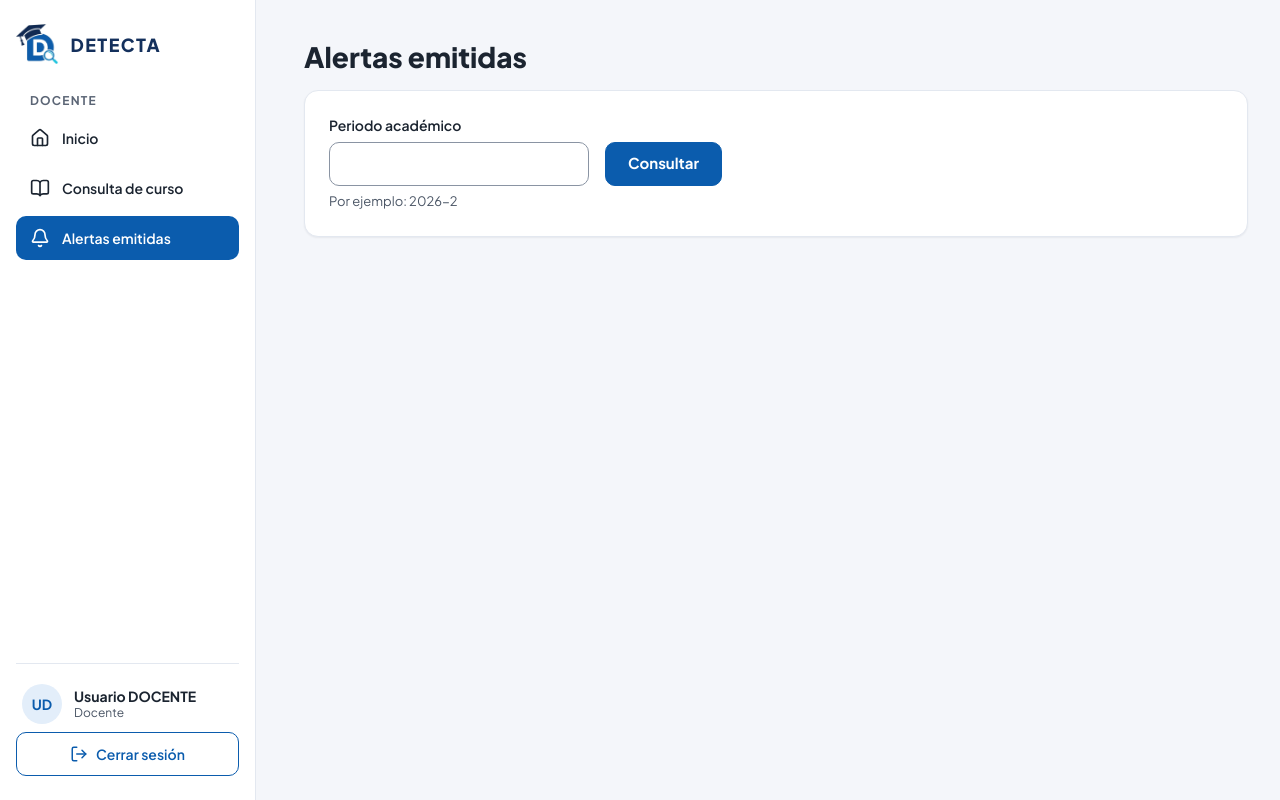
Test: Alertas emitidas (CUD01 2.c) › lista con fecha, estudiante, curso, nivel, justificación y estado «Pendiente» o «Atendida»; sin contenido de solicitudes
The width and height of the screenshot is (1280, 800).
Type "2026-2" into the field labelled "Periodo académico" at [459, 164], box [329,142,589,186]
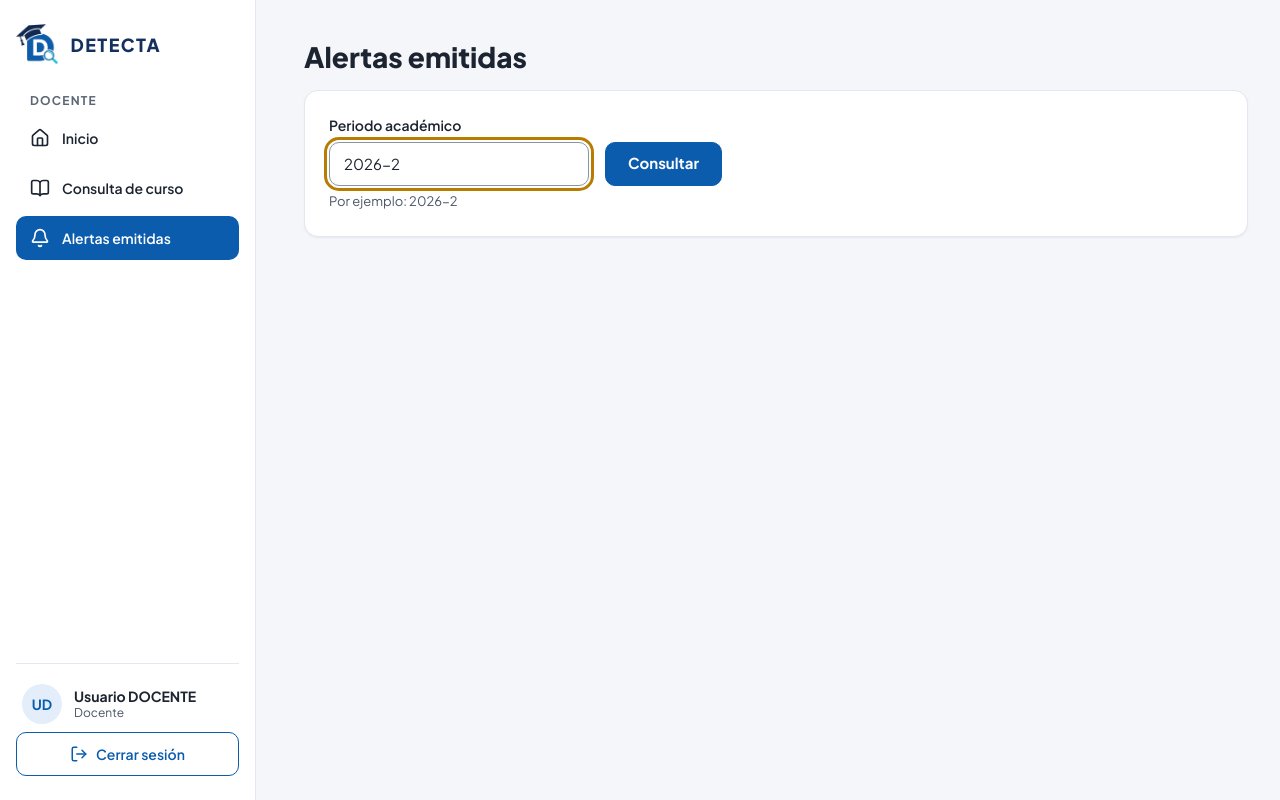
Click the button "Consultar" at [664, 164], box [605,142,722,186]
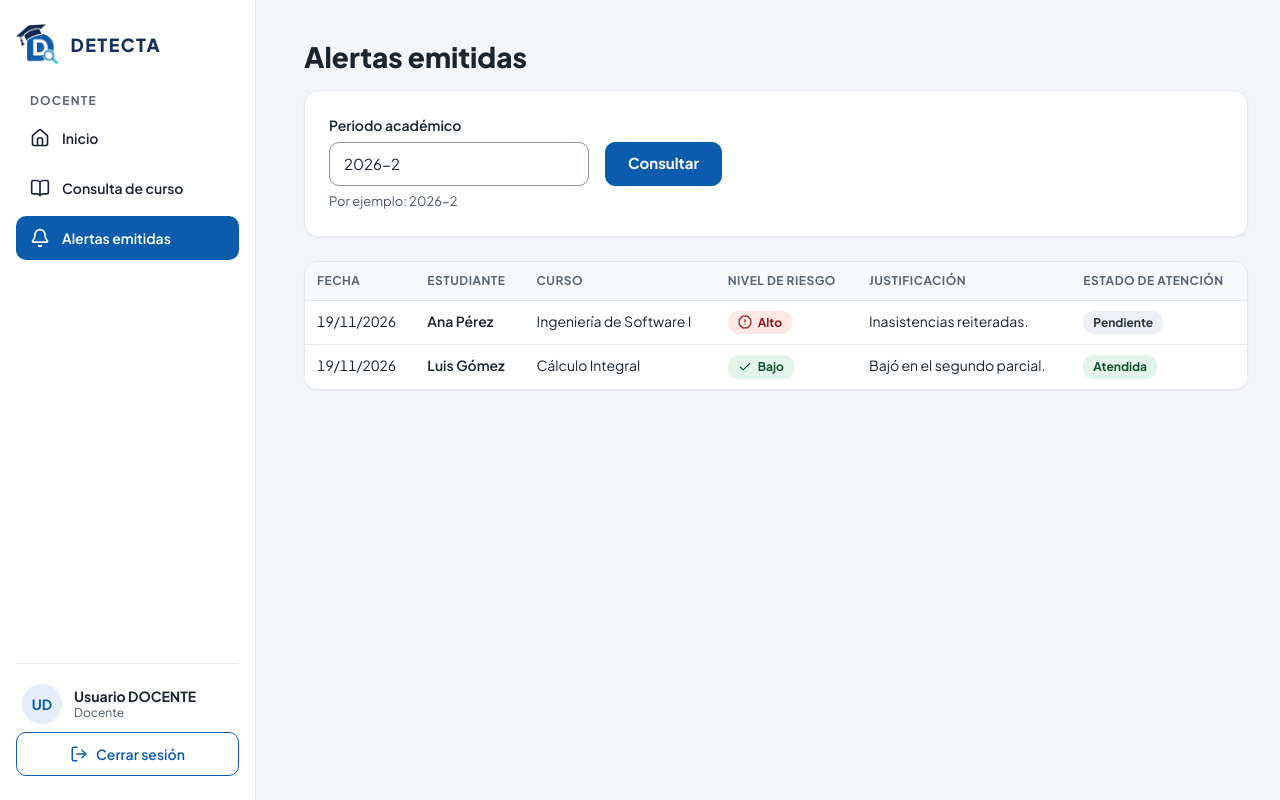
Check: the column headings read "Fecha", "Estudiante", "Curso", "Nivel de riesgo", "Justificación", "Estado de atención", in this order, box [305,262,415,300]; [415,262,524,300]; [524,262,716,300]; [716,262,857,300]; [857,262,1071,300]; [1071,262,1247,300]
Check: the text "19/11/2026" next to "Ana Pérez" is shown, box [317,312,396,330]
Check: the text "Ingeniería de Software I" is shown, box [524,300,716,345]
